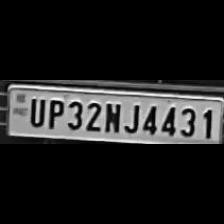1: (198, 106, 216, 140)
2: (82, 100, 102, 132)
3: (178, 104, 196, 138), (64, 98, 82, 130)
4: (138, 102, 158, 134), (158, 104, 176, 136)
J: (122, 100, 140, 134)
N: (100, 101, 122, 133)
P: (44, 97, 64, 129)
U: (26, 96, 44, 128)
